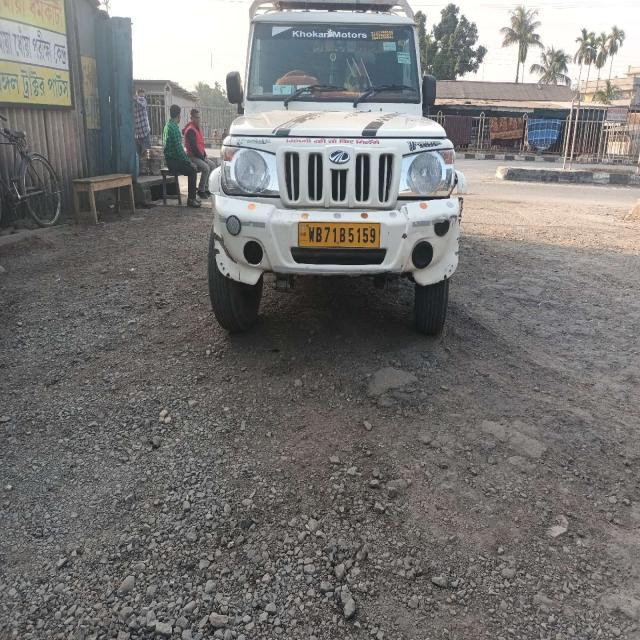light_vehicle: (207, 19, 457, 298)
